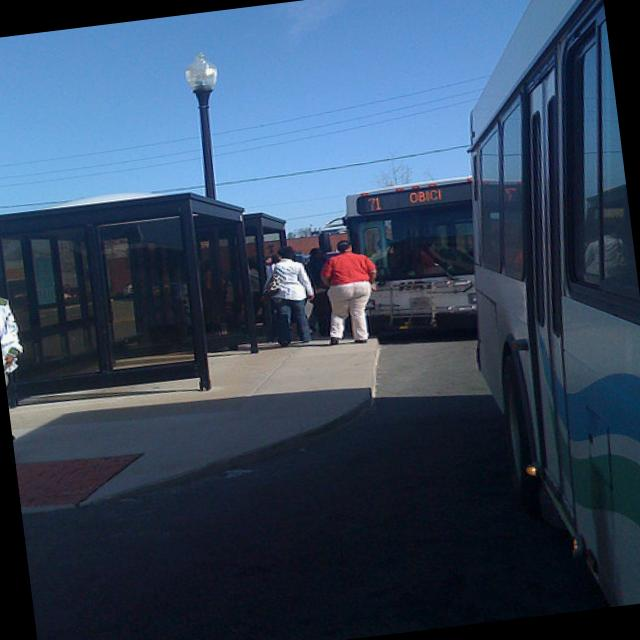Vehicle: (430, 0, 640, 617), (340, 176, 489, 354)
